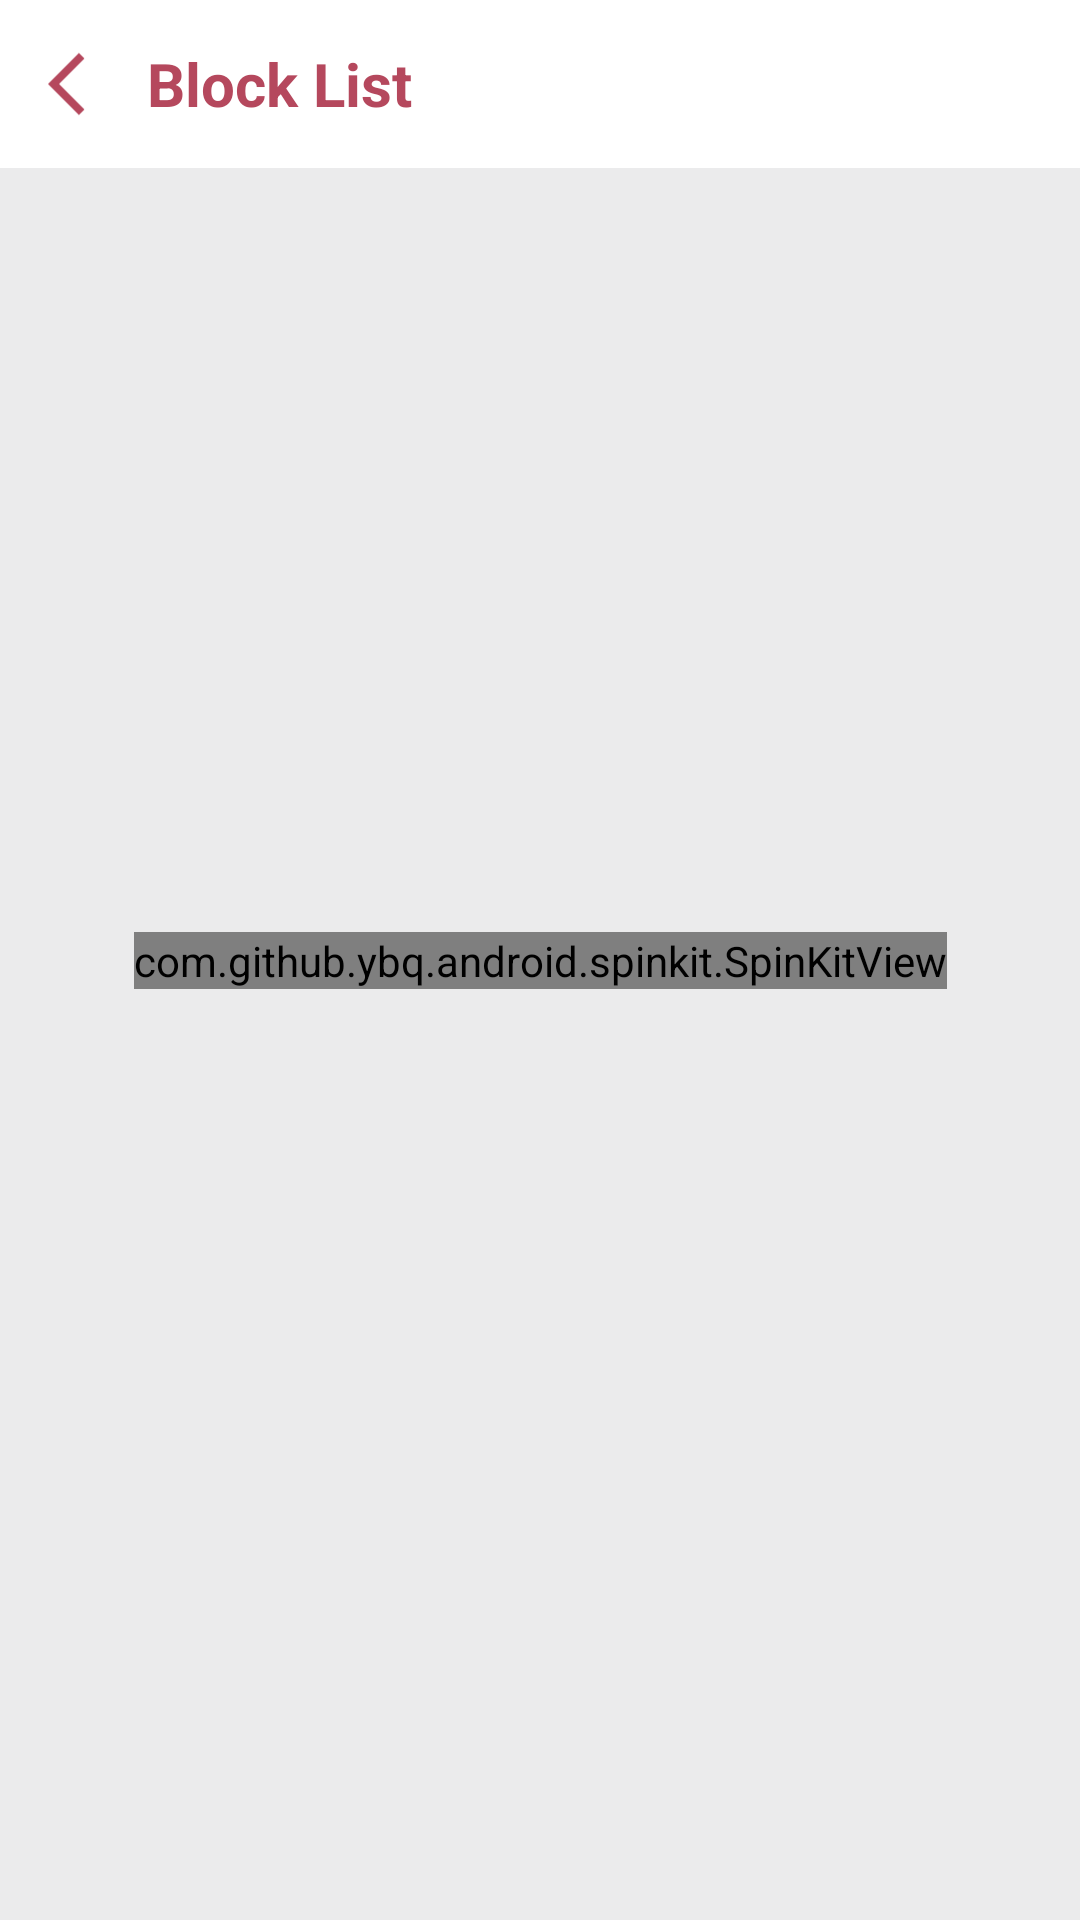

Where to tap for icons on this 1080px x 1920px app screen, as point (x, y):
arrow back: point (66, 84)
